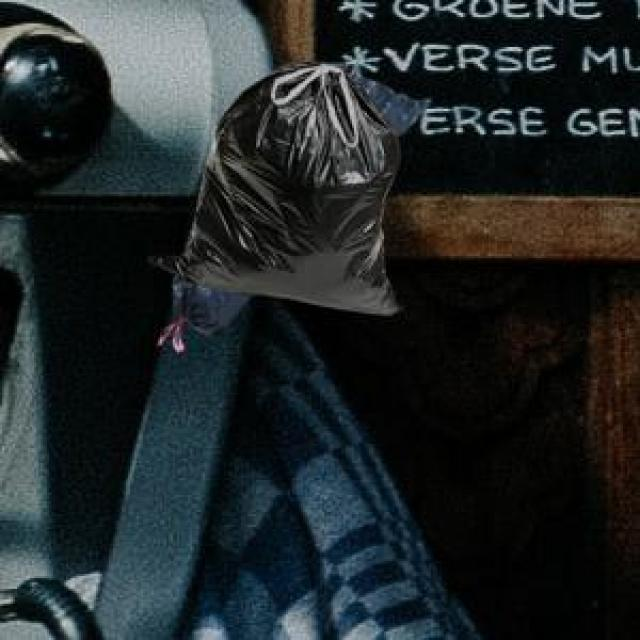miscellaneous trash: (169, 70, 425, 333), (145, 58, 399, 312)
